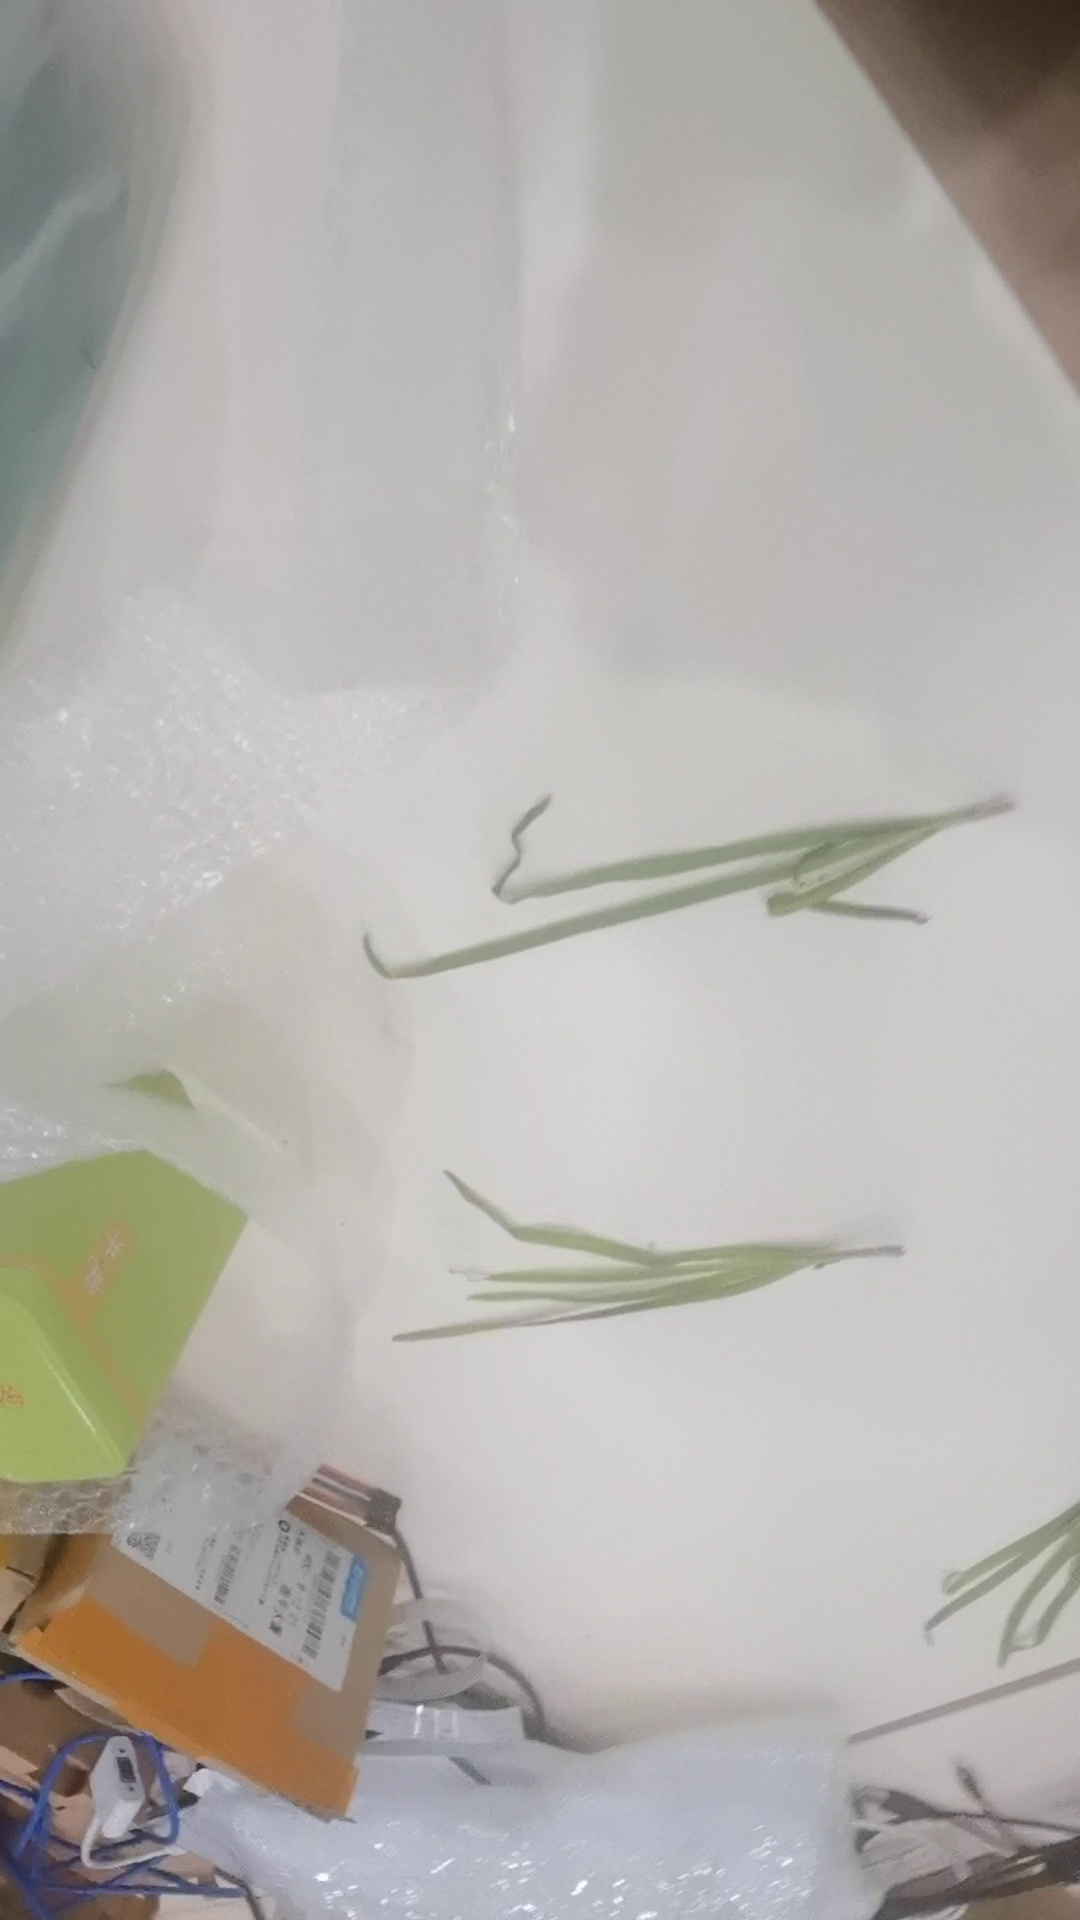chives: (355, 782, 1025, 967), (377, 1156, 930, 1375), (924, 1472, 1080, 1656)
